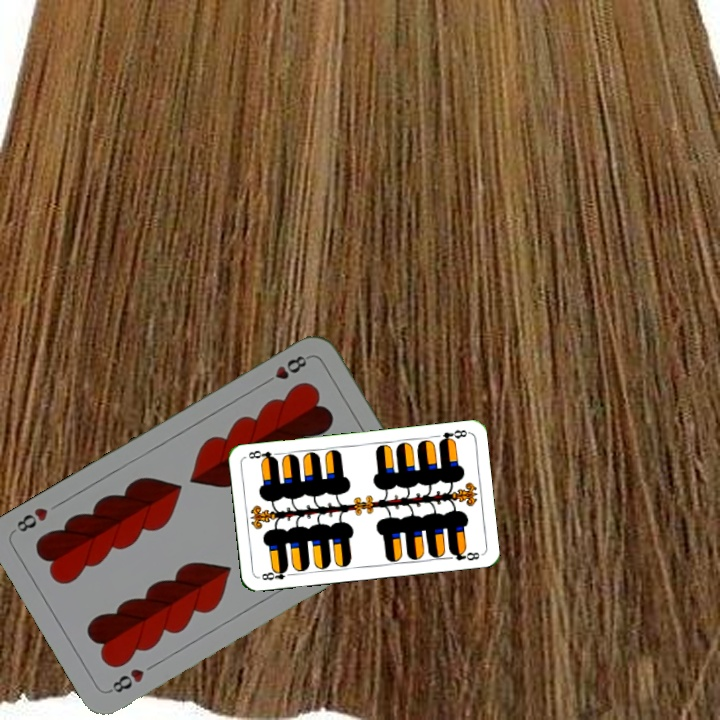E8: (435, 425, 470, 446), (258, 564, 296, 583)
H8: (259, 351, 313, 388), (105, 664, 147, 696)
